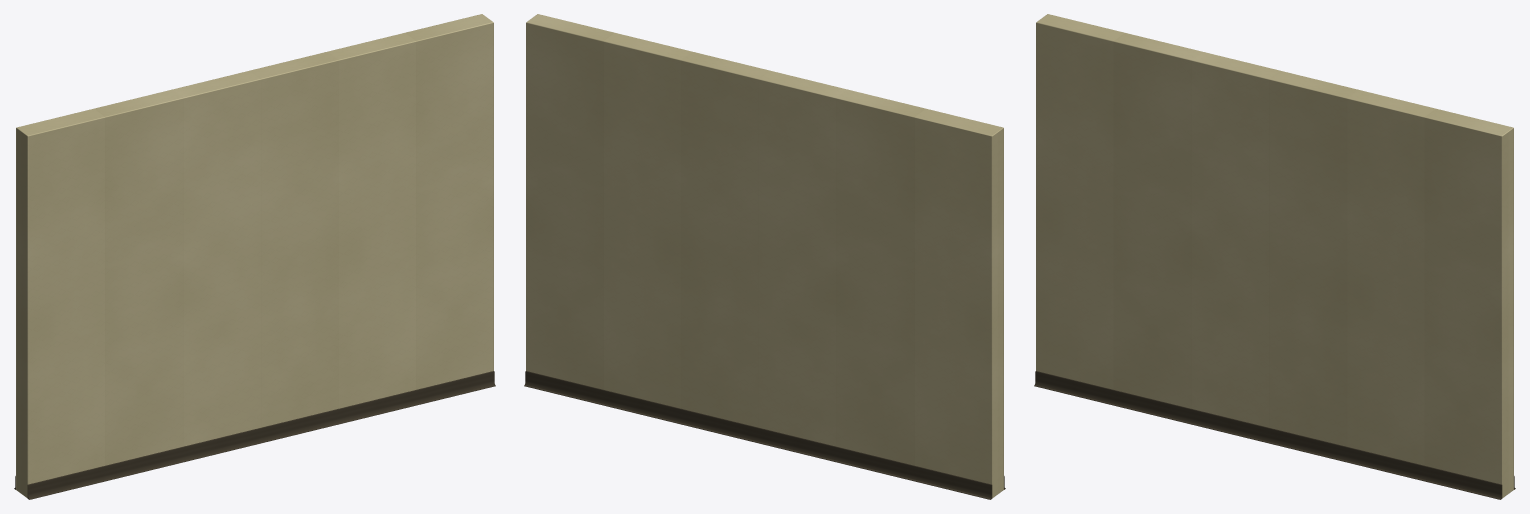
File: wall_366.gltf
The picture shows the model from 3 angles, left to right: view 1: azimuth 30°, elevation 25°; view 2: azimuth 150°, elevation 25°; view 3: azimuth 330°, elevation 25°; orthographic projection.
Visible parts, largest first — view 1: wall_366; view 2: wall_366; view 3: wall_366.
Boxes of the visible parts, x1,y1,x2,y2 form: wall_366: (14, 14, 495, 499); wall_366: (524, 14, 1005, 499); wall_366: (1034, 14, 1515, 499).
Size of the model in its own units: 3.66 by 2.72 by 0.208.
2 materials, 2 textured.
